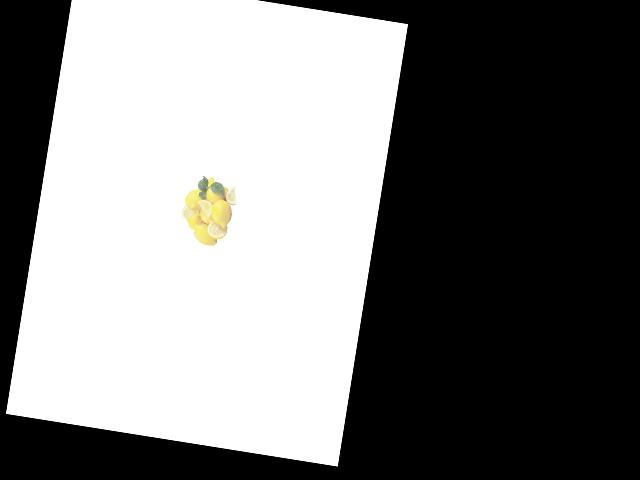lemon: (204, 182, 229, 208)
